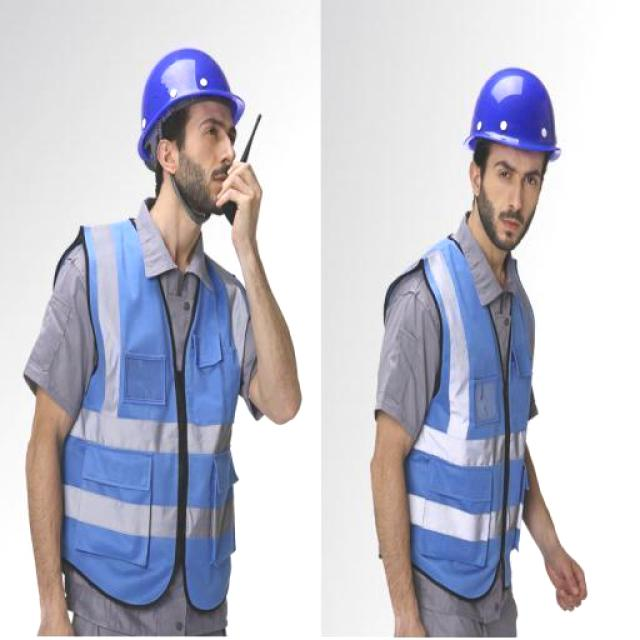face_nomask: (478, 153, 543, 237), (190, 116, 246, 198)
hand_noglove: (209, 157, 269, 239), (539, 545, 592, 616)
head_helmet: (463, 60, 562, 166), (134, 46, 246, 133)
person: (14, 45, 308, 640), (364, 47, 594, 640)
vest: (38, 220, 240, 609), (390, 244, 541, 597)
